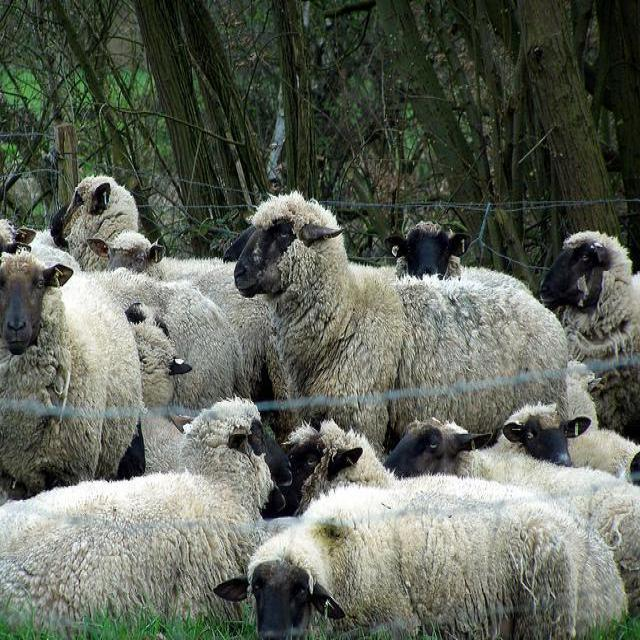Sheep: (226, 196, 573, 450), (1, 398, 294, 628), (216, 474, 632, 632), (383, 418, 639, 618), (52, 177, 234, 406), (87, 232, 291, 430), (0, 247, 147, 500), (538, 230, 639, 444), (264, 398, 398, 526), (112, 286, 194, 472), (497, 404, 639, 488), (385, 222, 470, 282)
